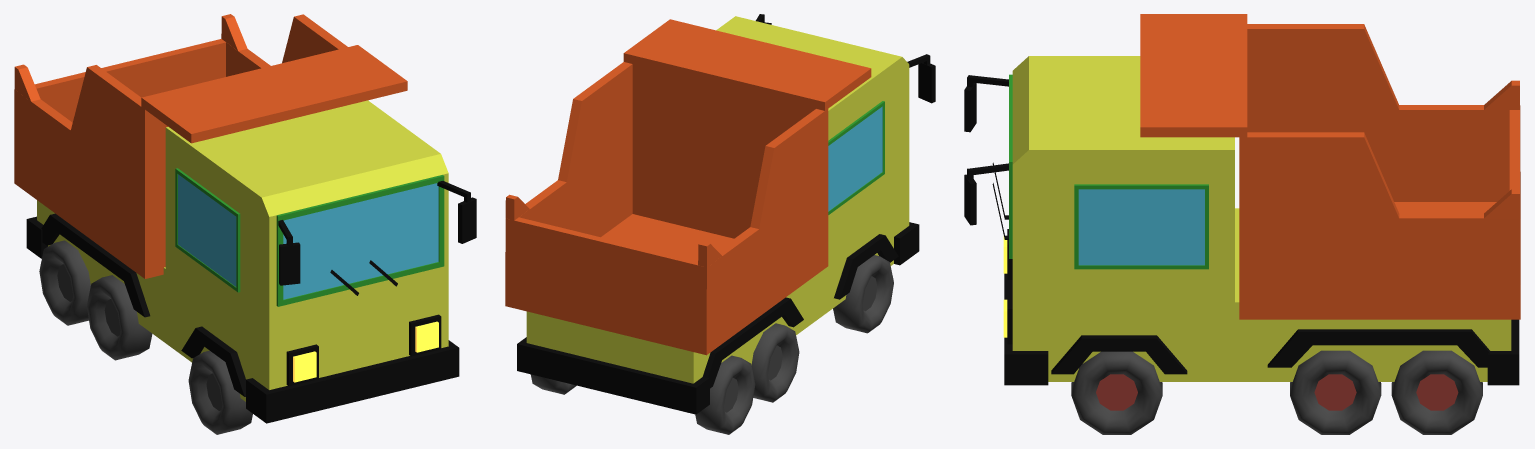
Rendered from Truck.fbx.
3 renders of one model, left to right at view 1: azimuth 30°, elevation 25°; view 2: azimuth 150°, elevation 25°; view 3: azimuth 270°, elevation 25°, orthographic. The views are drawn at different scales.
Parts seen in each view (by area): view 1: Truck, wheels_6, wheels_5, wheels_7; view 2: Truck, wheels_7, wheels_5, wheels_6; view 3: Truck, wheels_6, wheels_7, wheels_5.
Part boxes in pixels (x1,y1,x2,y2): Truck: [14, 14, 476, 423]; wheels_6: [87, 275, 152, 360]; wheels_5: [188, 350, 252, 434]; wheels_7: [39, 240, 90, 325]; Truck: [505, 14, 935, 414]; wheels_7: [530, 355, 755, 434]; wheels_5: [833, 255, 893, 333]; wheels_6: [751, 323, 799, 402]; Truck: [964, 14, 1520, 385]; wheels_6: [1290, 350, 1381, 434]; wheels_7: [1391, 350, 1482, 434]; wheels_5: [1071, 351, 1162, 434].
Size of the model in its own units: 56.1 by 71.86 by 116.
